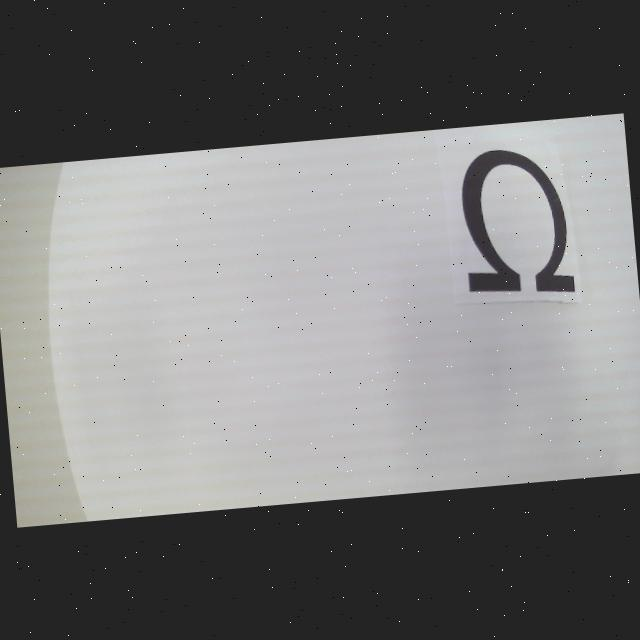OMEGA: (458, 144, 576, 302)
